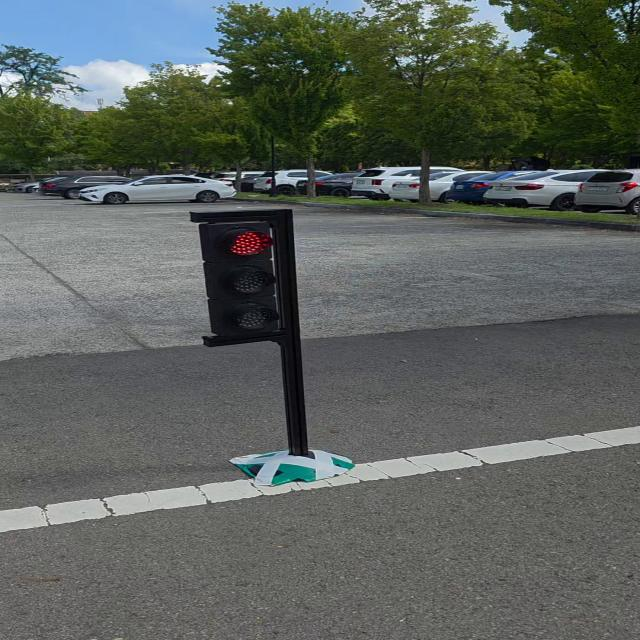red: (193, 219, 286, 339)
